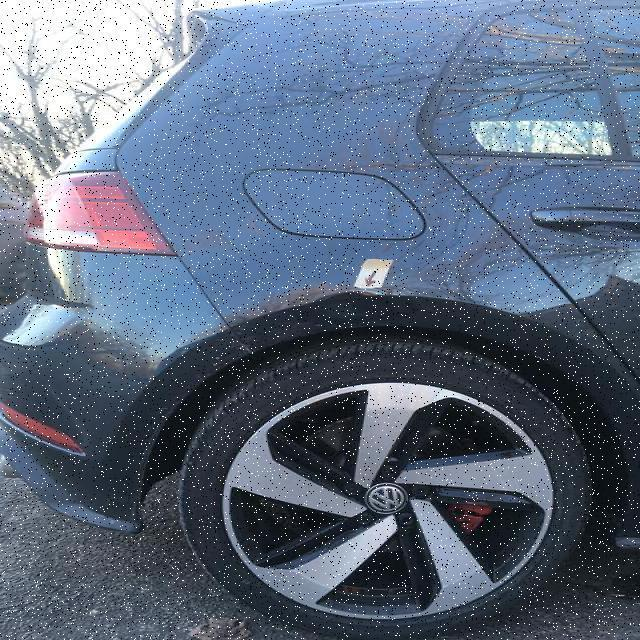quaterpanel-dent: (132, 133, 523, 420)
